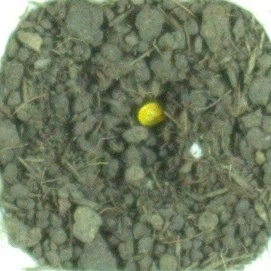pepper seed: (52, 36, 220, 165)
